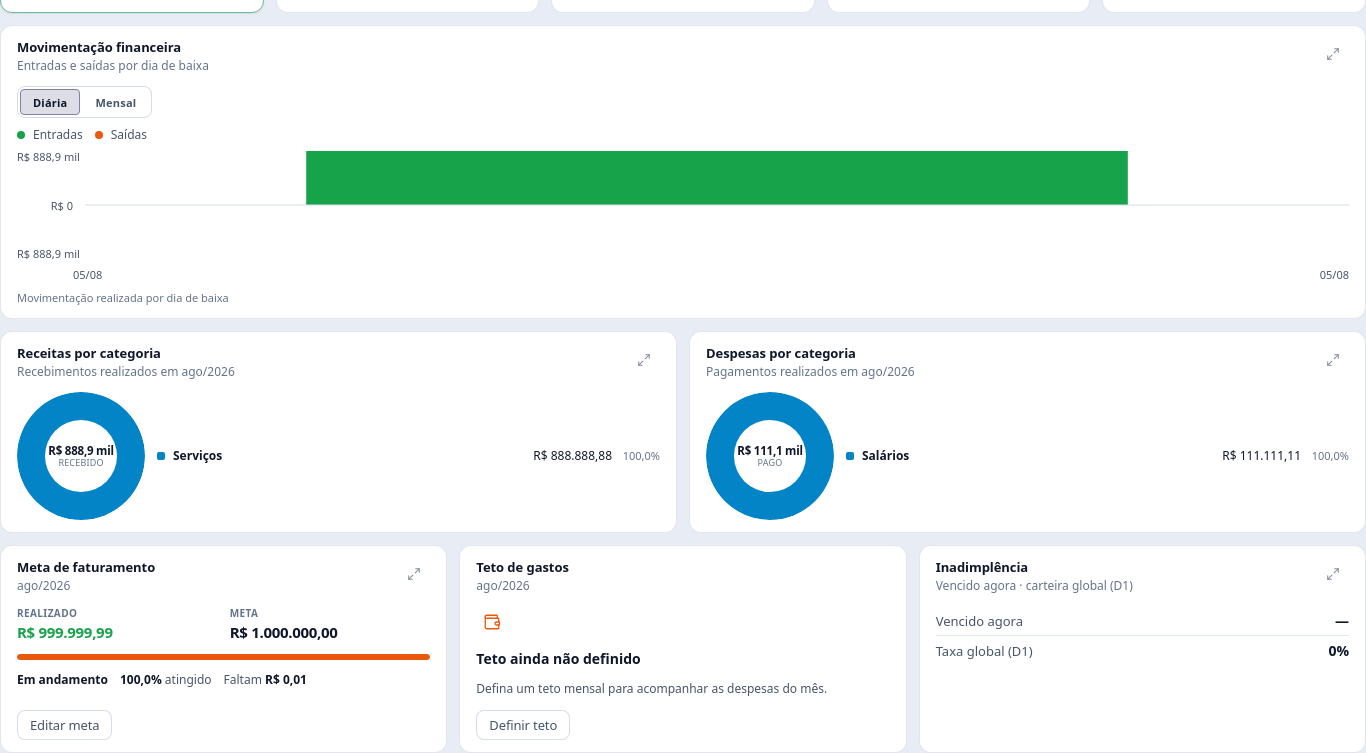
PRE-F13-HOME-POLISH-2 — drill-down e cobertura › P2-26/P2-27/P2-28 — Escape/close, keyboard e dialog mobile
The width and height of the screenshot is (1366, 753).
(page scrolled)
Expected: the button that starts with "Inadimplência" is shown, [919,545,1365,752]
Click the 5th button named "Expandir" at (1333, 574), box [1317,558,1349,590]
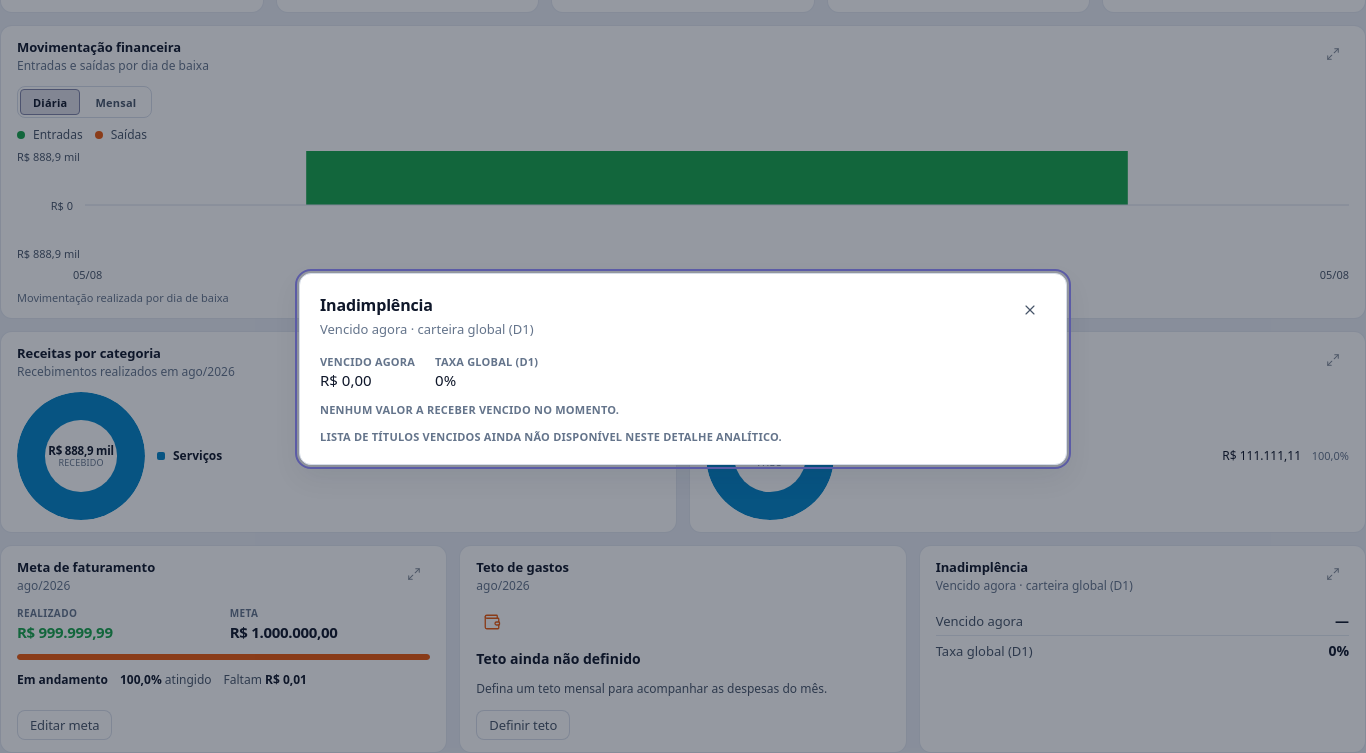
Press Escape
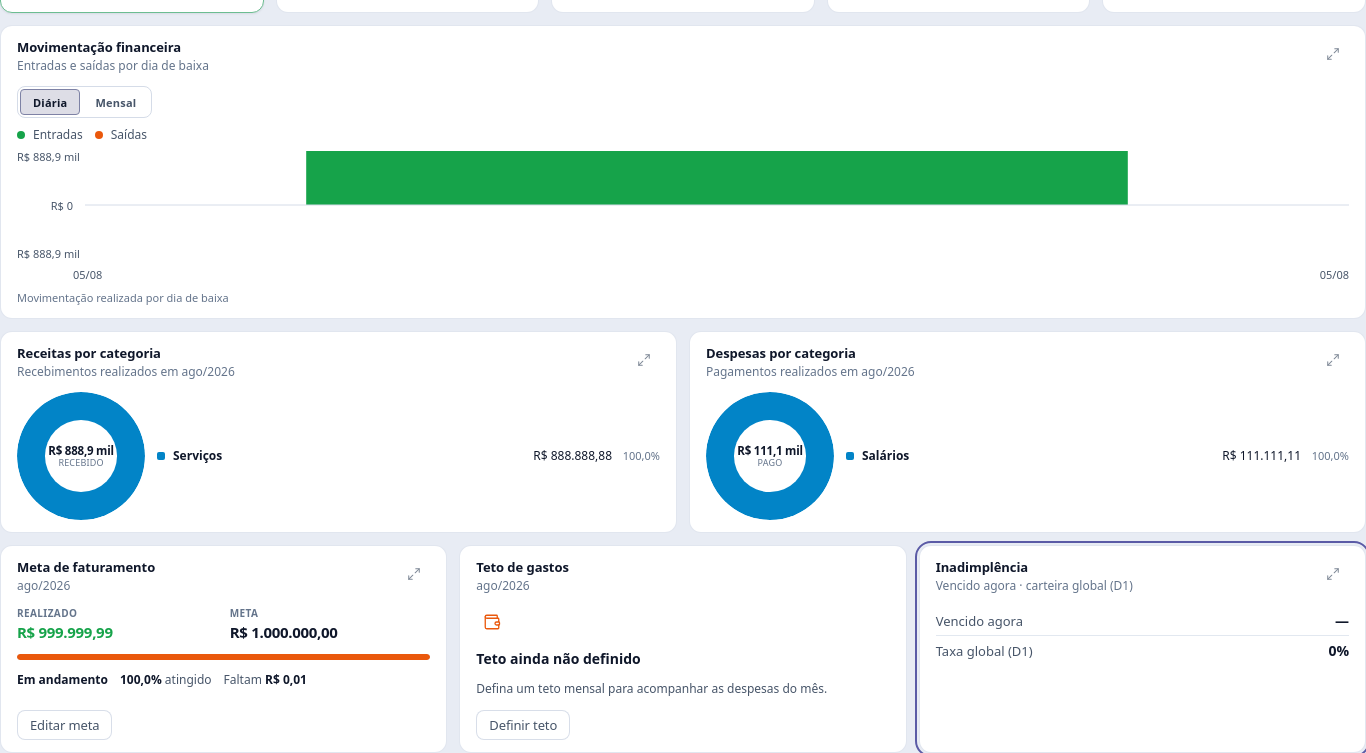
Now the dialog is gone
Press Enter in the button that starts with "Inadimplência", box [919,545,1365,752]
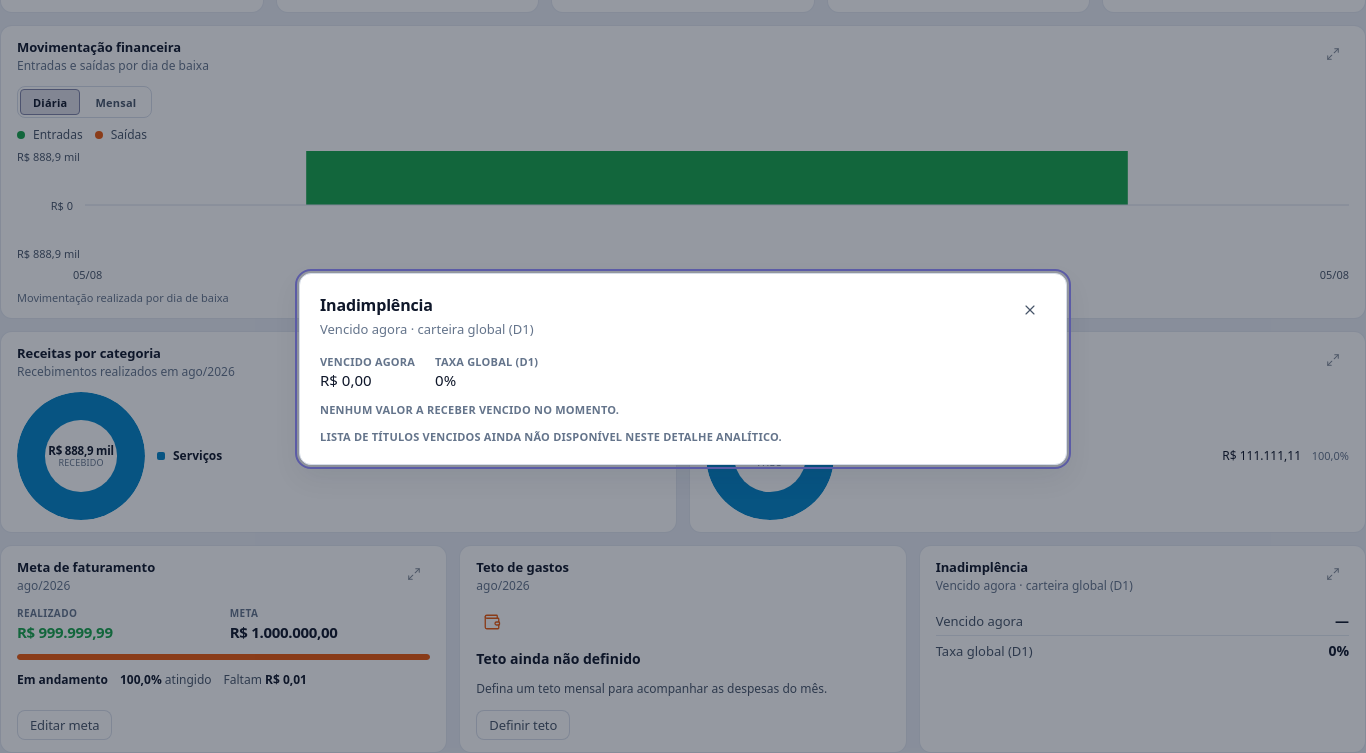
Click the button named "Fechar" at (1030, 310), box [1014,294,1046,326]
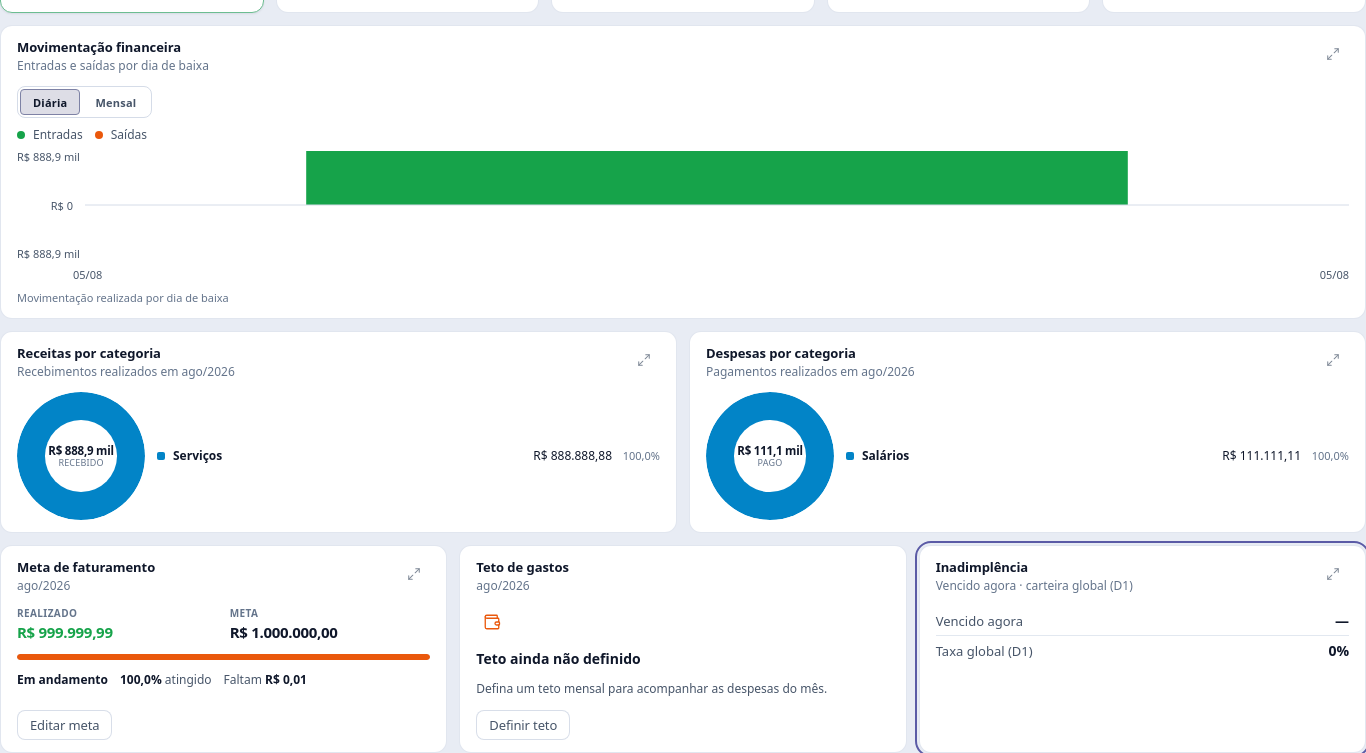
Now the dialog is gone
